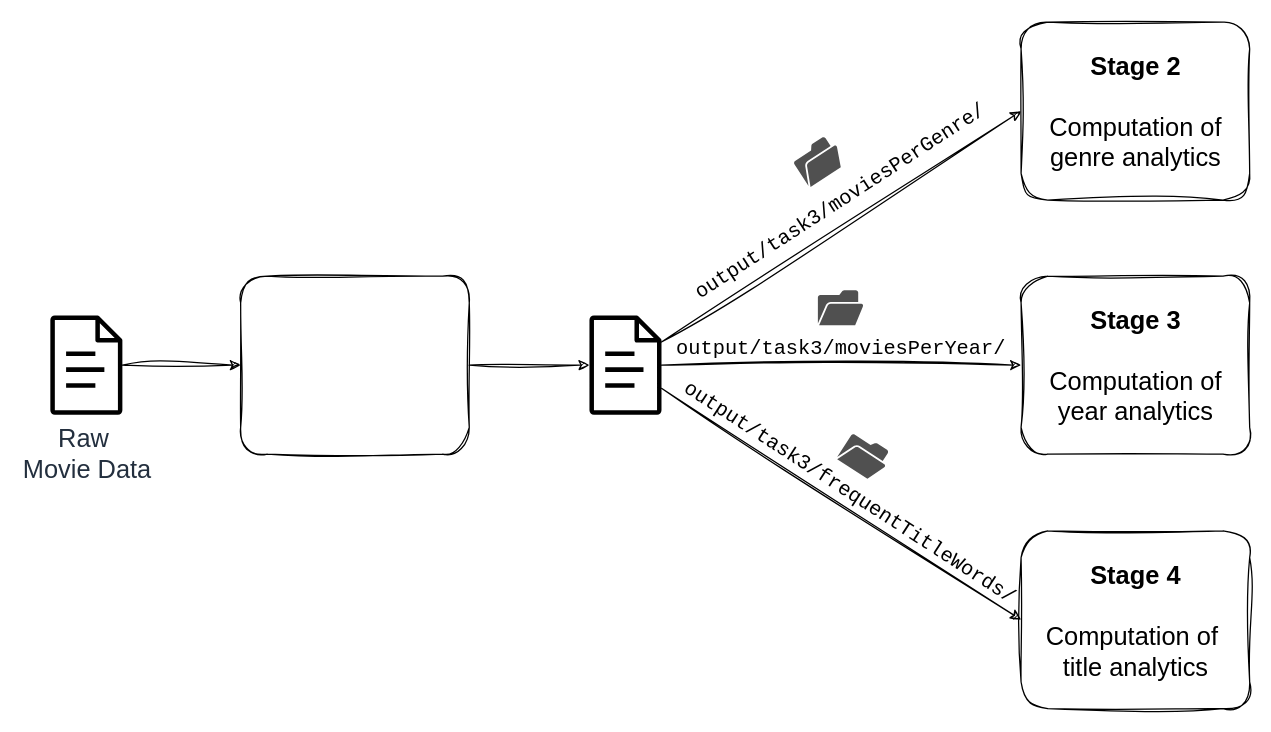
Some shapes in this 1271 by 732 pixel diagram are drawn without their labels. The shapes that lost their labels are listed below. From the top down, each one's centre as x and y in pixels, then its label:
the point at 354,364: Stage 1 Data cleaning & preprocessing
the point at 625,364: Cleaned & Transformed DataFrame
